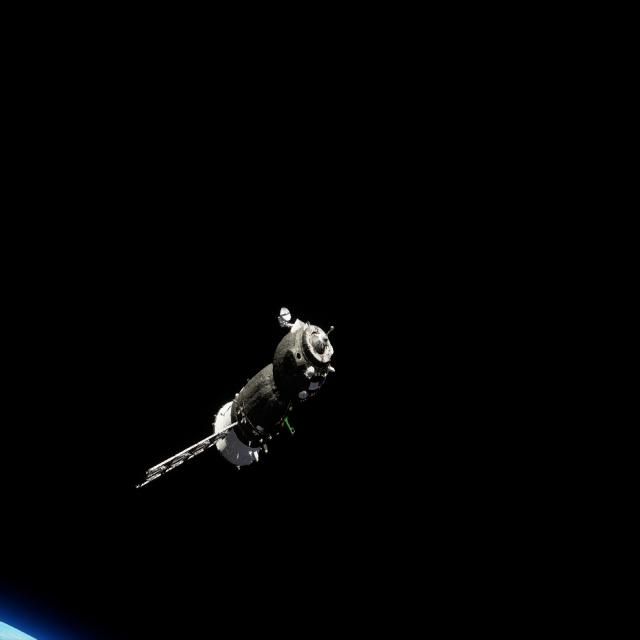Satellites revolving around earth: (133, 304, 338, 493)
